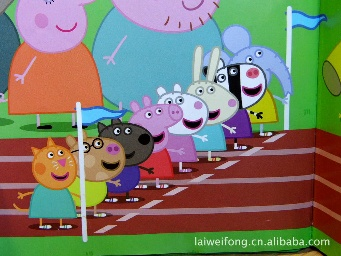Peppa: (128, 97, 185, 189)
